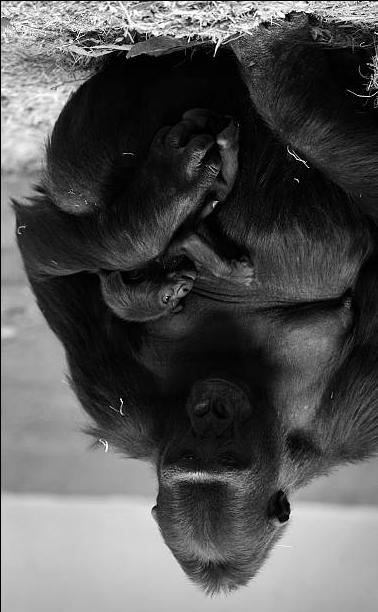gorille_Autres: (0, 0, 375, 612)
